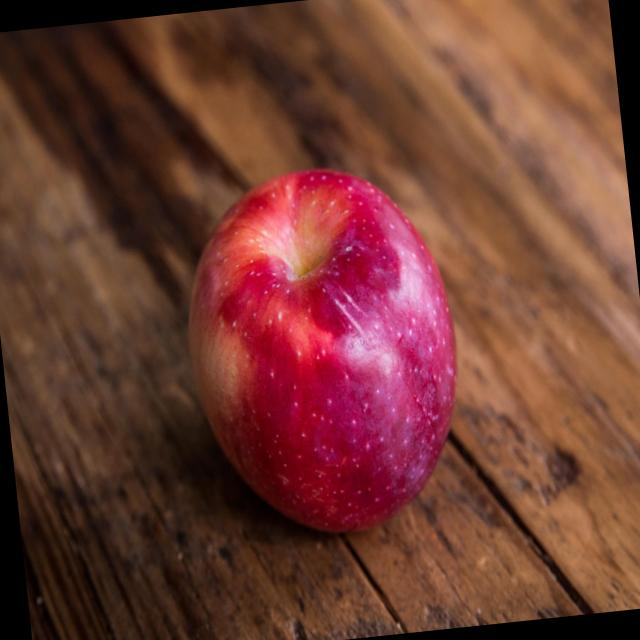apple: (170, 148, 482, 570)
